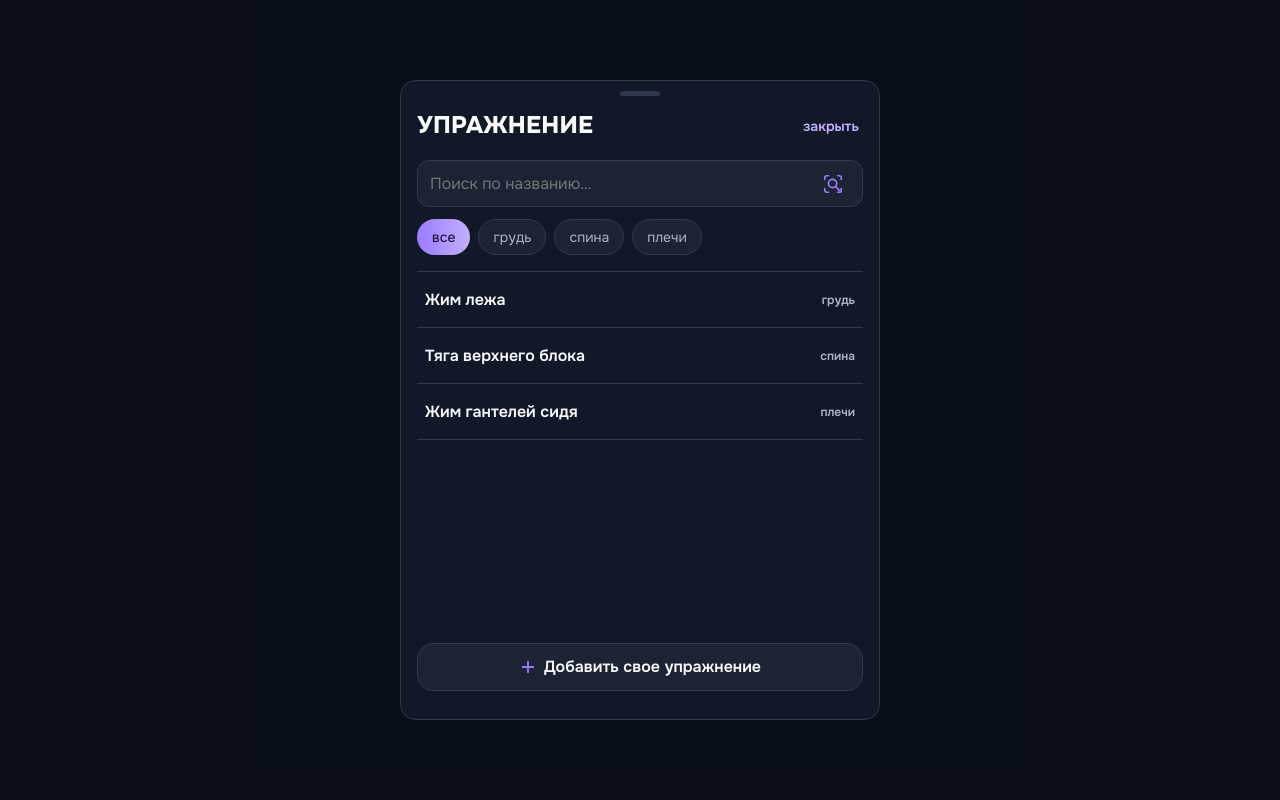
Test: ExercisePicker — крестик в поиске (v8.0.0) › появляется с текстом, очищает поиск и оставляет фокус в поле
Type "тяга" into the field with placeholder "Поиск по названию…".
click(640, 184); type("тяга")  # box [417,160,863,207]
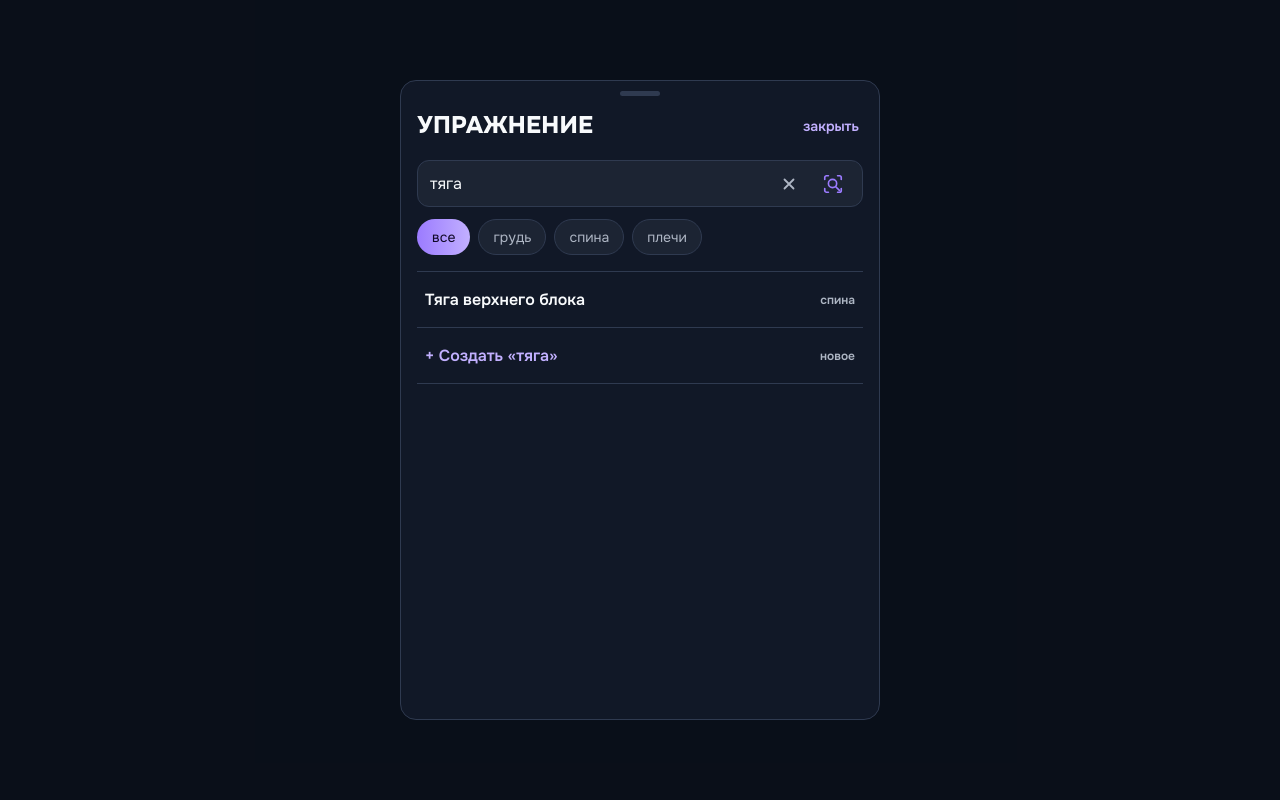
Click the button named "Очистить поиск".
click(789, 184)  # box [767,162,811,206]
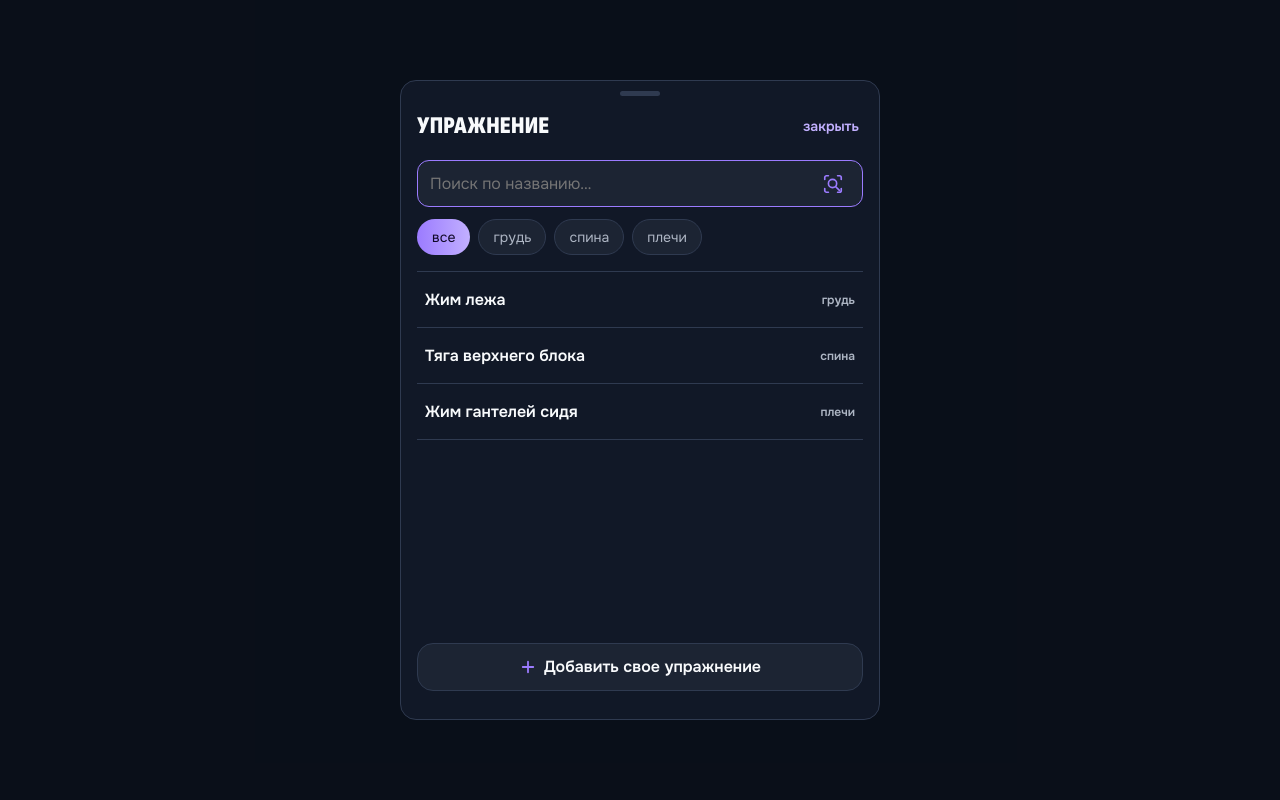
Expected: the field with placeholder "Поиск по названию…" is empty, [417,160,863,207]
